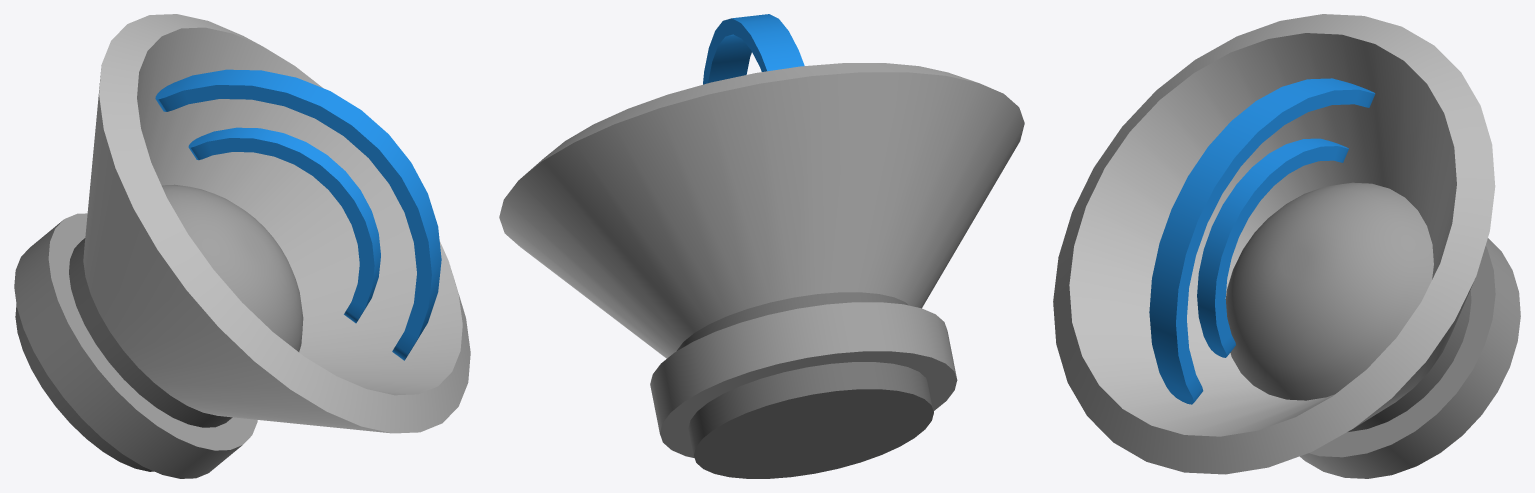
File: speaker_high_volume.glb
3 views of the same model, side by side, from view 1: azimuth 30°, elevation 25°; view 2: azimuth 150°, elevation 25°; view 3: azimuth 270°, elevation 25° (orthographic). The views are drawn at different scales.
Visible parts, largest first — view 1: Circle.2543, Circle.2545, Circle.2544; view 2: Circle.2543, Circle.2545; view 3: Circle.2543, Circle.2545, Circle.2544.
Boxes of the visible parts, bbox=[...] form: Circle.2543: bbox=[14, 14, 470, 478]; Circle.2545: bbox=[155, 69, 441, 360]; Circle.2544: bbox=[188, 127, 380, 323]; Circle.2543: bbox=[499, 63, 1024, 478]; Circle.2545: bbox=[703, 14, 804, 84]; Circle.2543: bbox=[1053, 14, 1520, 478]; Circle.2545: bbox=[1149, 78, 1375, 404]; Circle.2544: bbox=[1197, 138, 1348, 357].
Bounding box in the file's own units: 2.11 × 2.05 × 2.11.
Materials: 1 (1 with a texture image).
